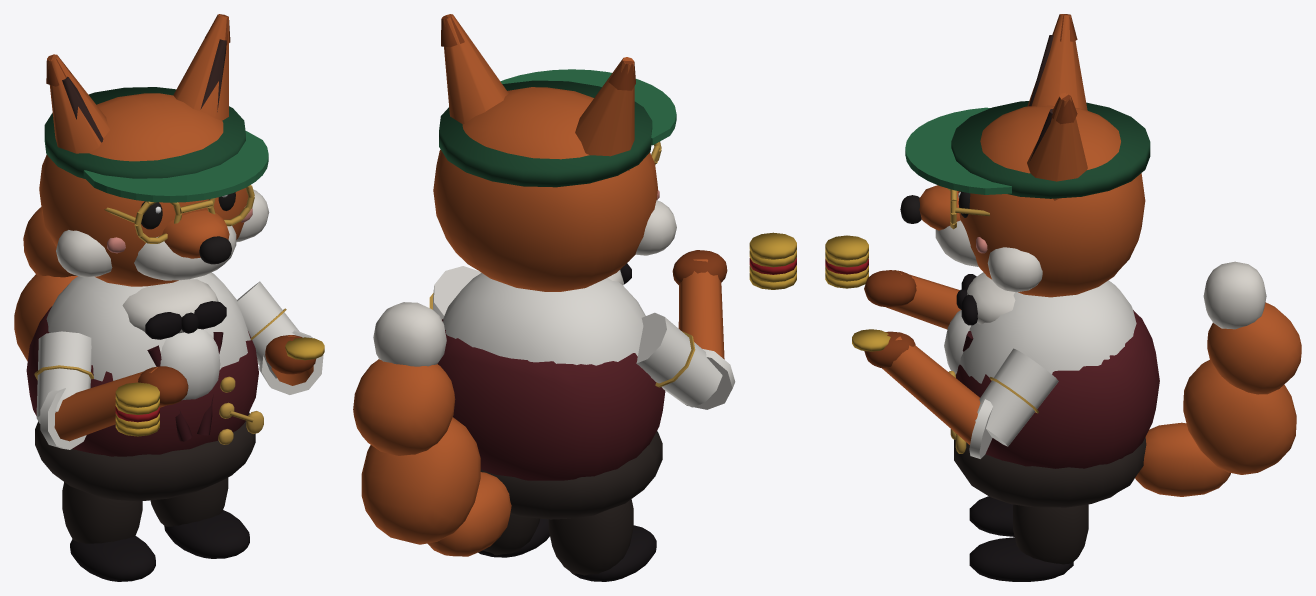
File: vance.glb
The picture shows the model from 3 angles, left to right: view 1: azimuth 30°, elevation 25°; view 2: azimuth 150°, elevation 25°; view 3: azimuth 270°, elevation 25°; orthographic projection. The views are drawn at different scales.
Parts seen in each view (by area): view 1: Vance_Body, Vance_Head, Vance_ArmR, Vance_ArmL, Vance_Tail; view 2: Vance_Body, Vance_Head, Vance_Tail, Vance_ArmR, Vance_ArmL; view 3: Vance_Body, Vance_Head, Vance_Tail, Vance_ArmL, Vance_ArmR.
Boxes of the visible parts, x1,y1,x2,y2 form: Vance_Body: [26, 272, 263, 581]; Vance_Head: [39, 14, 269, 286]; Vance_ArmR: [34, 331, 188, 449]; Vance_ArmL: [236, 281, 324, 394]; Vance_Tail: [14, 207, 77, 360]; Vance_Body: [437, 232, 796, 581]; Vance_Head: [433, 14, 676, 291]; Vance_Tail: [353, 302, 511, 556]; Vance_ArmR: [636, 250, 735, 409]; Vance_ArmL: [429, 266, 481, 319]; Vance_Body: [825, 235, 1159, 581]; Vance_Head: [900, 14, 1150, 297]; Vance_Tail: [1135, 261, 1301, 496]; Vance_ArmL: [852, 329, 1058, 458]; Vance_ArmR: [864, 270, 960, 329].
Bounding box in the file's own units: 0.6585 × 1.13 × 0.9825.
